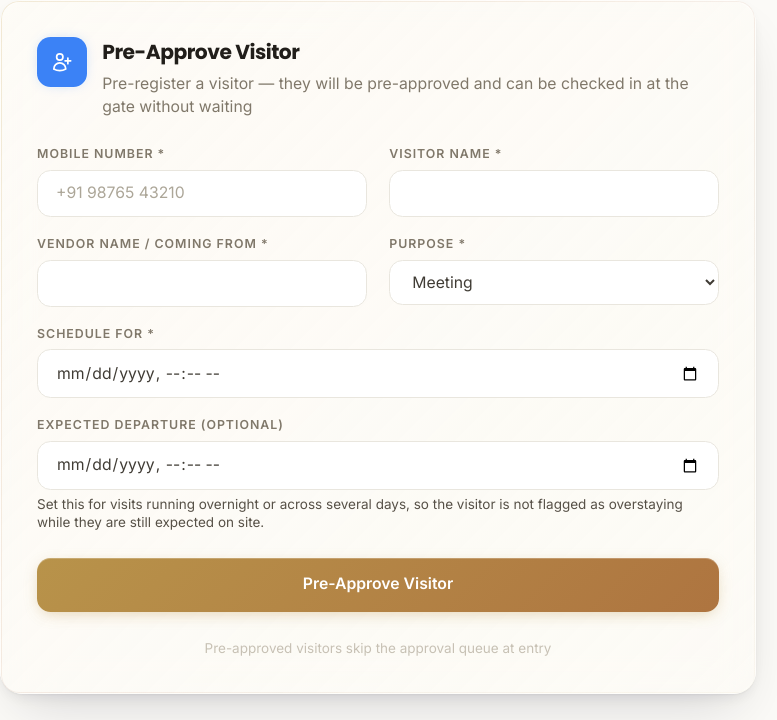
Test: PreApproveForm errors › handles active visit RPC rejection gracefully
Step 1. Type "9876543210" into the field with placeholder "+91 98765 43210" → (202, 193), box [37, 170, 367, 217]
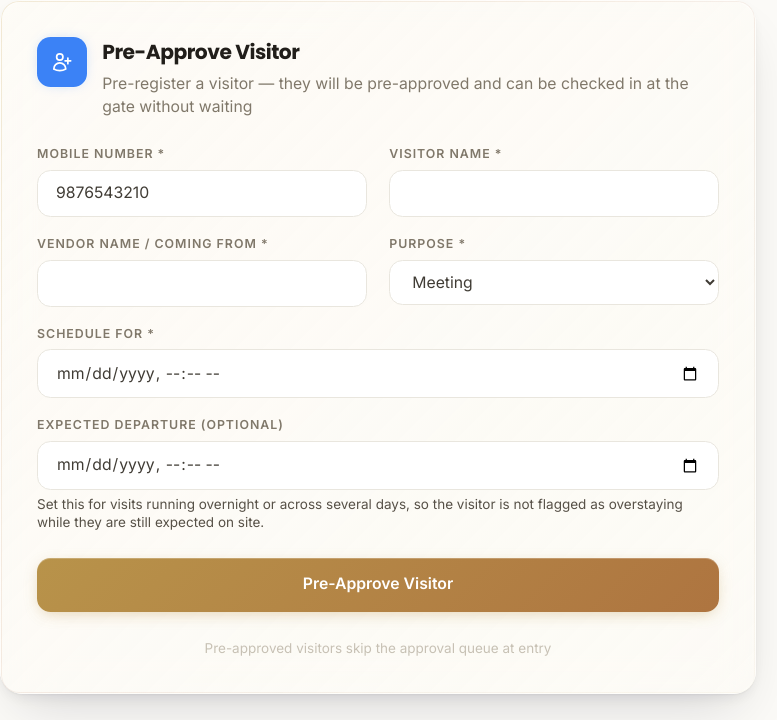
Step 2. Type "Test Visitor" into the field below "Visitor Name *" → (554, 193), box [389, 170, 719, 217]
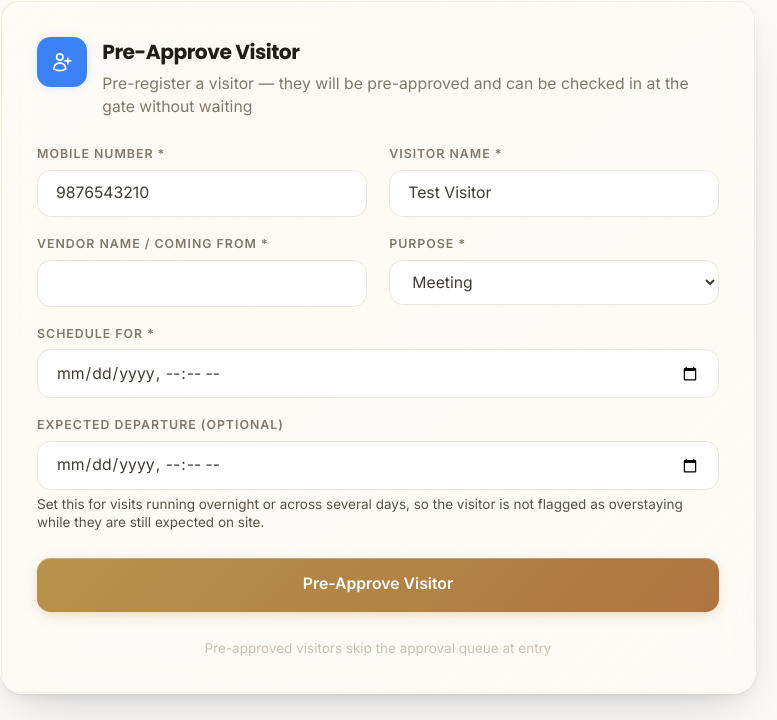
Step 3. Type "Test Corp" into the field below "Vendor Name / Coming from *" → (202, 283), box [37, 260, 367, 306]
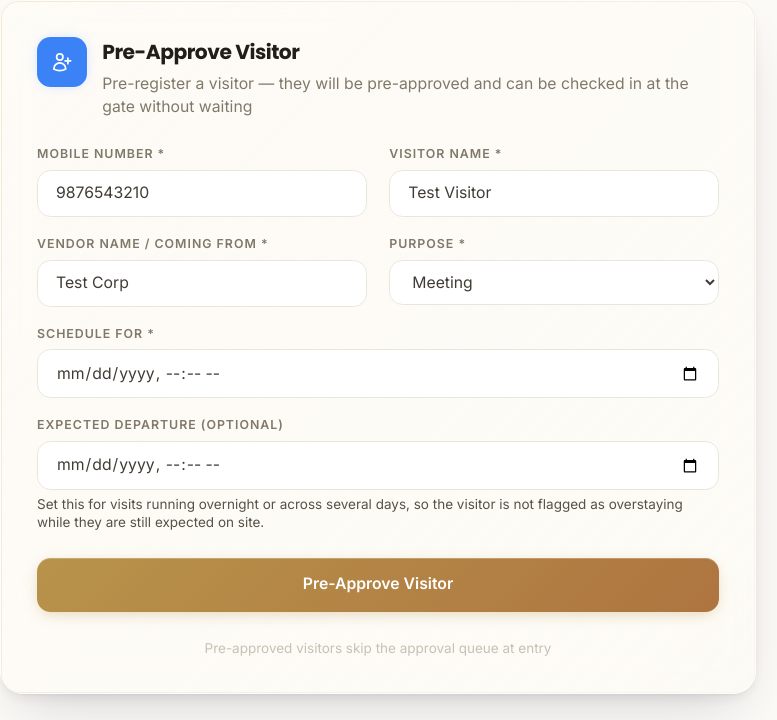
Step 4. Type "2026-08-05T10:00" into the field labelled "Schedule for *" → (378, 374), box [37, 349, 719, 398]
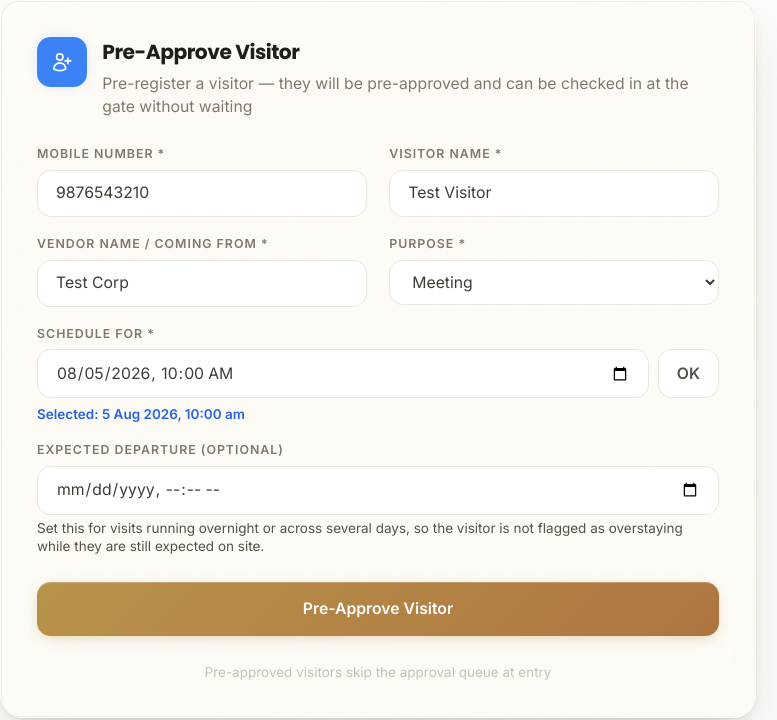
Step 5. Click the button "Pre-Approve Visitor" → (378, 609), box [37, 582, 719, 636]
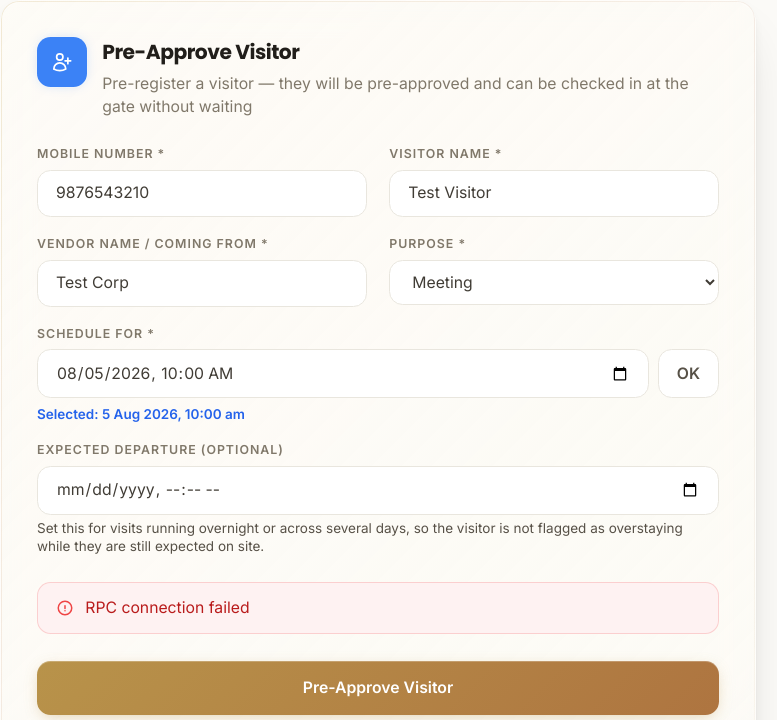
expect the text "RPC connection failed" is shown: met, box [37, 582, 719, 634]
